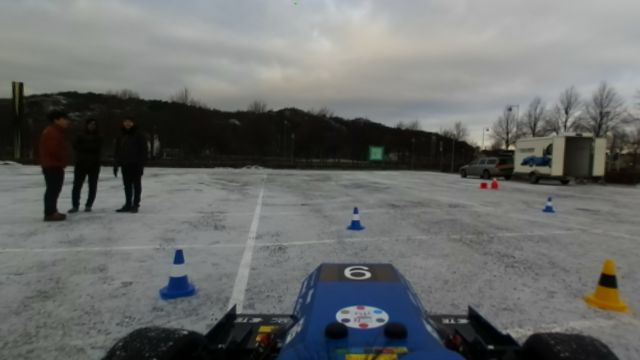blue: (158, 246, 197, 302), (346, 204, 365, 232)
yellow: (583, 259, 630, 313)
